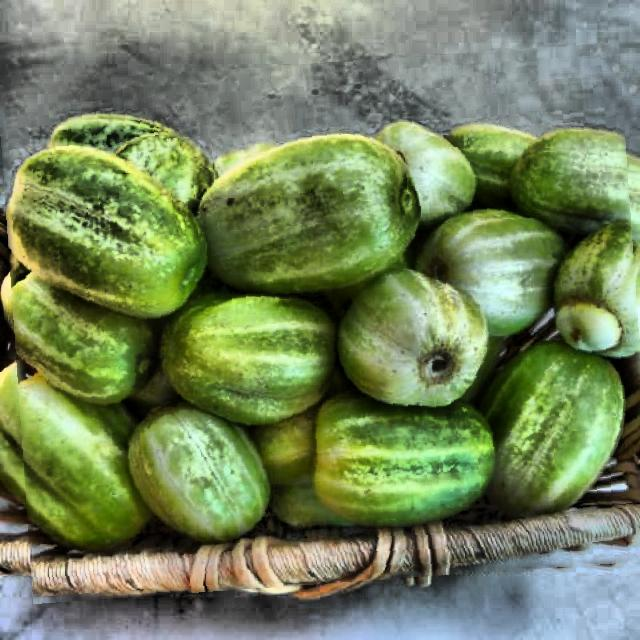cucumber: (5, 52, 640, 593)
